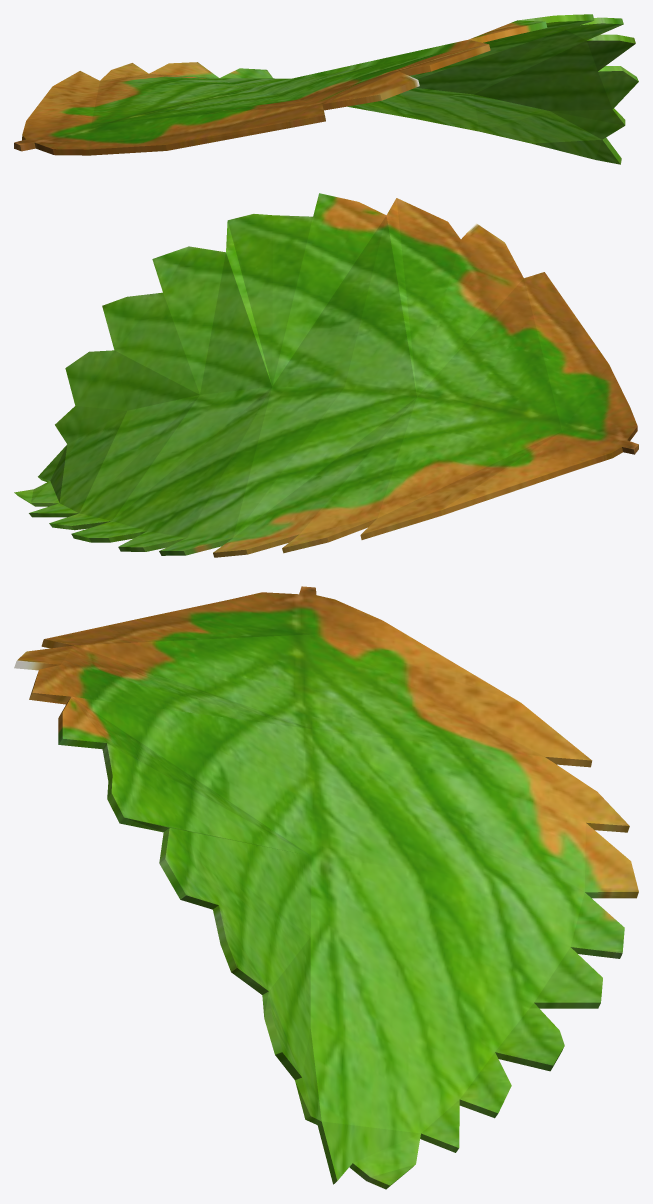
Rendered from leaf5_s1.dae.
3 renders of one model, top to bottom at view 1: azimuth 30°, elevation 25°; view 2: azimuth 150°, elevation 25°; view 3: azimuth 270°, elevation 25°, orthographic. The views are drawn at different scales.
Visible parts, largest first — view 1: Plane; view 2: Plane; view 3: Plane.
Boxes of the visible parts, <box> form: Plane: <box>14,14,638,164</box>; Plane: <box>14,193,638,557</box>; Plane: <box>14,586,638,1189</box>.
Size of the model in its own units: 0.1375 by 0.0957 by 0.0575.
Materials: 1 (1 with a texture image).
